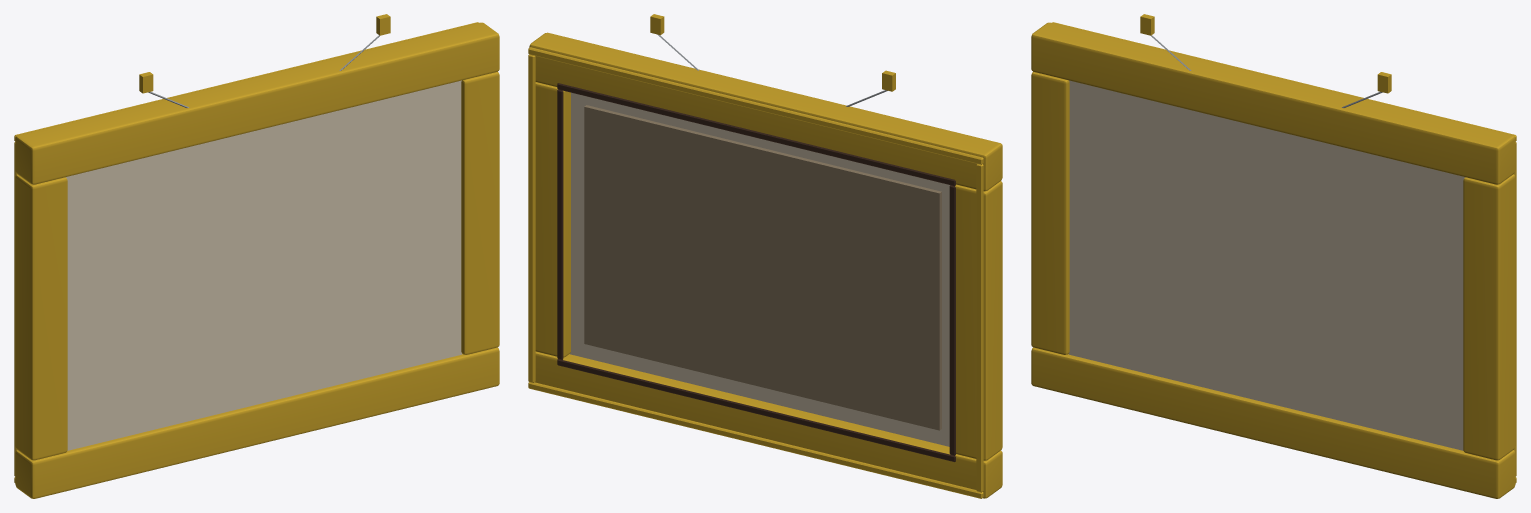
The model's file is prop_canvas_study6.glb.
3 renders of one model, left to right at view 1: azimuth 30°, elevation 25°; view 2: azimuth 150°, elevation 25°; view 3: azimuth 330°, elevation 25°, orthographic. The views are drawn at different scales.
Visible parts, largest first — view 1: Canvas, Hooks; view 2: Paint, Canvas, Hooks; view 3: Canvas, Hooks.
Part boxes in pixels (x1=…): Canvas: x1=14, y1=22, x2=499, y2=498; Hooks: x1=139, y1=14, x2=390, y2=107; Paint: x1=584, y1=105, x2=941, y2=430; Canvas: x1=528, y1=32, x2=1002, y2=498; Hooks: x1=650, y1=14, x2=895, y2=106; Canvas: x1=1031, y1=22, x2=1516, y2=498; Hooks: x1=1140, y1=14, x2=1391, y2=107.
Bounding box in the file's own units: 0.89 × 0.72 × 0.068.
